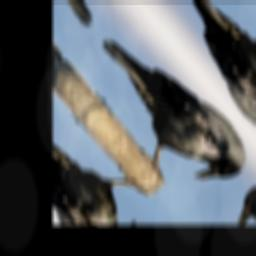Crow: (60, 12, 256, 216)
